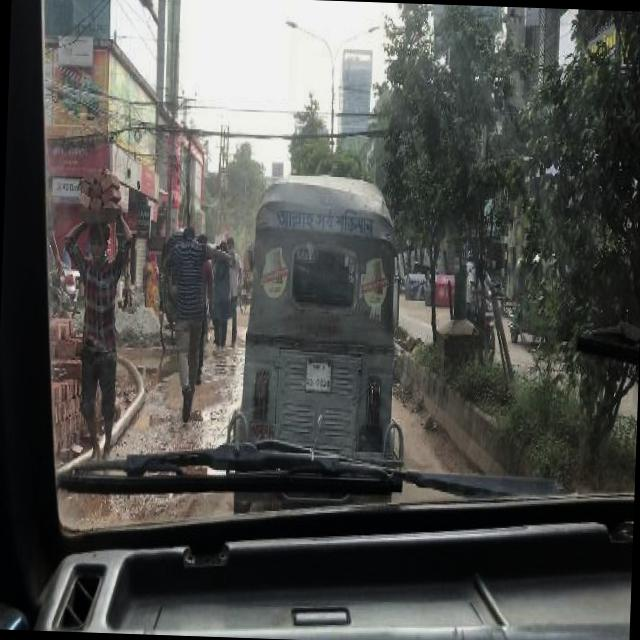motorcycle: (228, 168, 406, 510), (502, 253, 552, 341), (152, 230, 183, 349), (44, 238, 83, 318), (464, 279, 500, 360), (237, 242, 256, 313)
